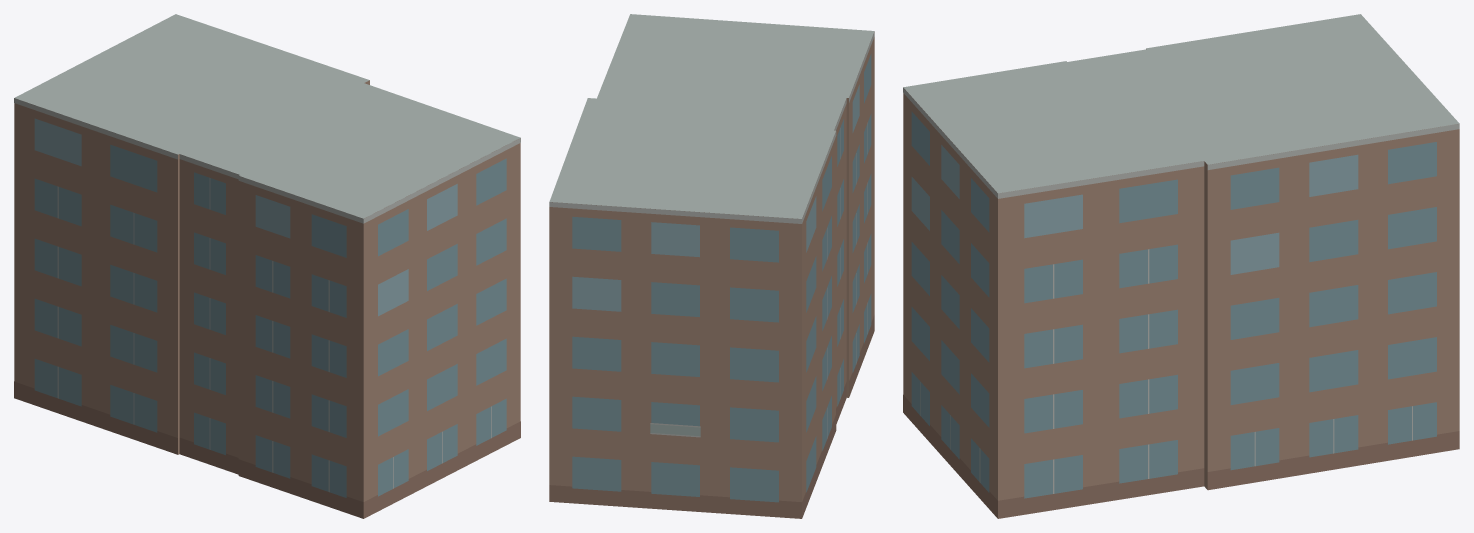
Rendered from survey-upis-32731595.glb.
The picture shows the model from 3 angles, left to right: view 1: azimuth 30°, elevation 25°; view 2: azimuth 150°, elevation 25°; view 3: azimuth 270°, elevation 25°; orthographic projection. The views are drawn at different scales.
Parts seen in each view (by area): view 1: survey-upis-32731595.tmp; view 2: survey-upis-32731595.tmp; view 3: survey-upis-32731595.tmp.
Boxes of the visible parts, bbox=[...] form: survey-upis-32731595.tmp: bbox=[14, 14, 520, 518]; survey-upis-32731595.tmp: bbox=[549, 14, 874, 518]; survey-upis-32731595.tmp: bbox=[903, 14, 1459, 518].
Bounding box in the file's own units: 17.28 × 14.6 × 22.64.
